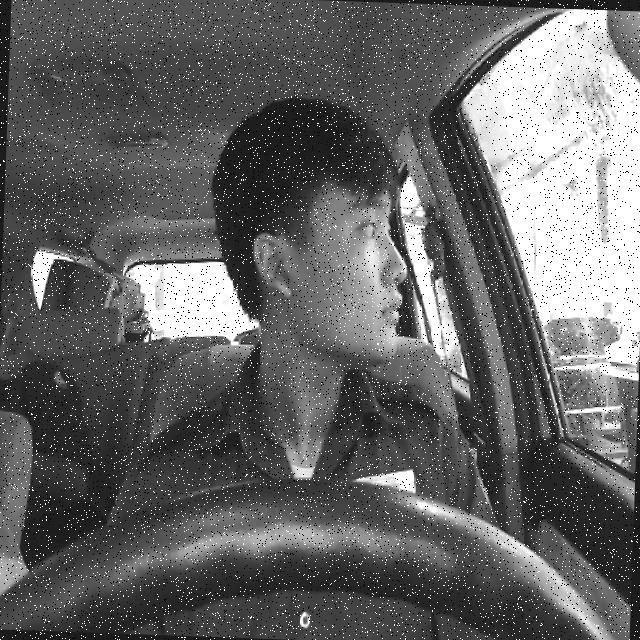seeing_right: (245, 171, 412, 365)
